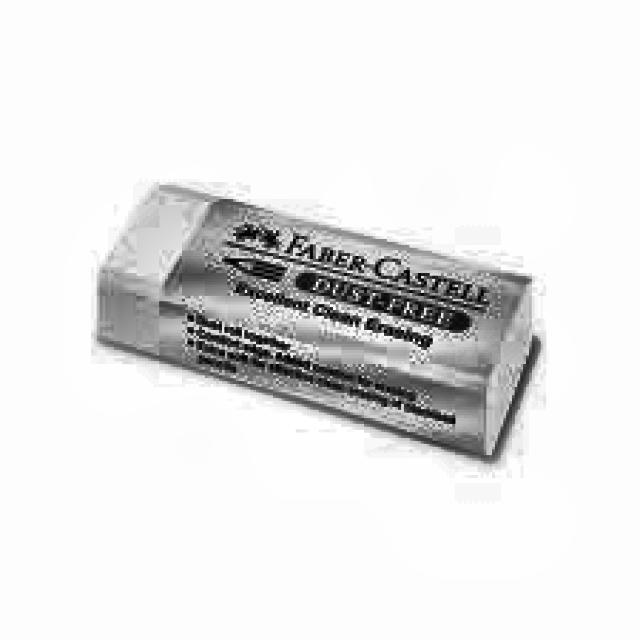eraser: (82, 170, 538, 467)
